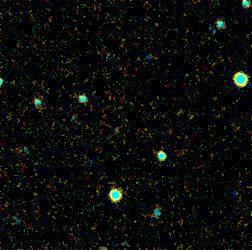star: (166, 102, 196, 132)
